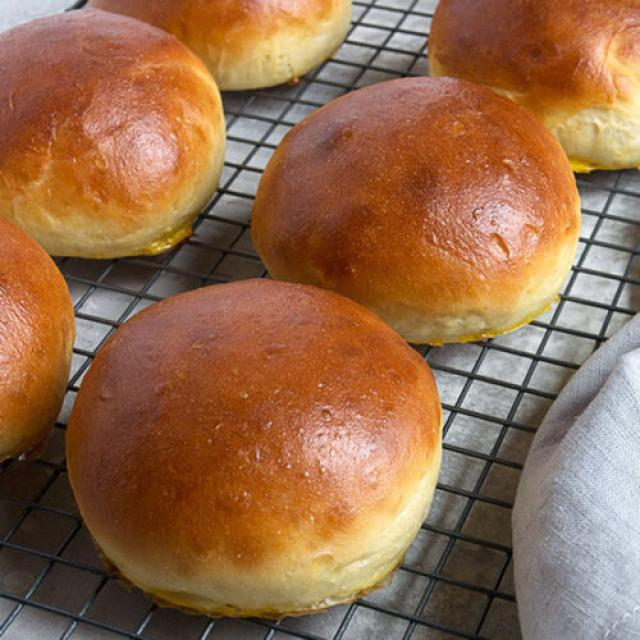Bun: (59, 274, 445, 618), (246, 77, 597, 357), (0, 8, 235, 262), (425, 0, 640, 179), (83, 0, 356, 94), (0, 219, 80, 466)
